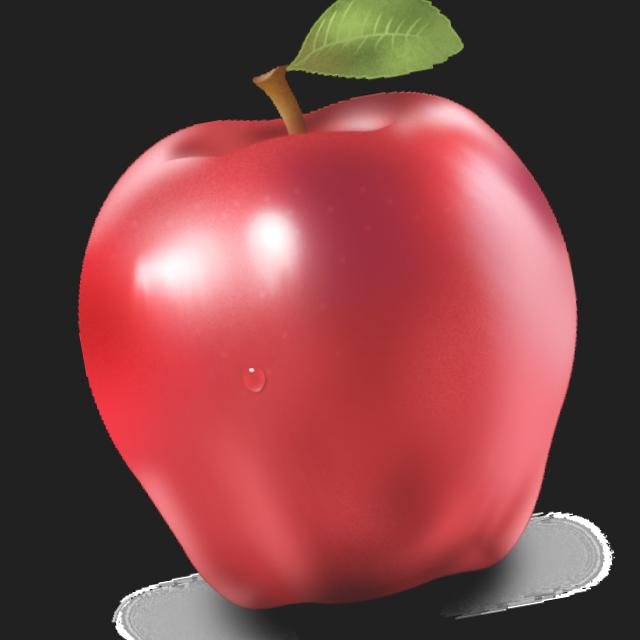apple: (36, 41, 640, 640)
